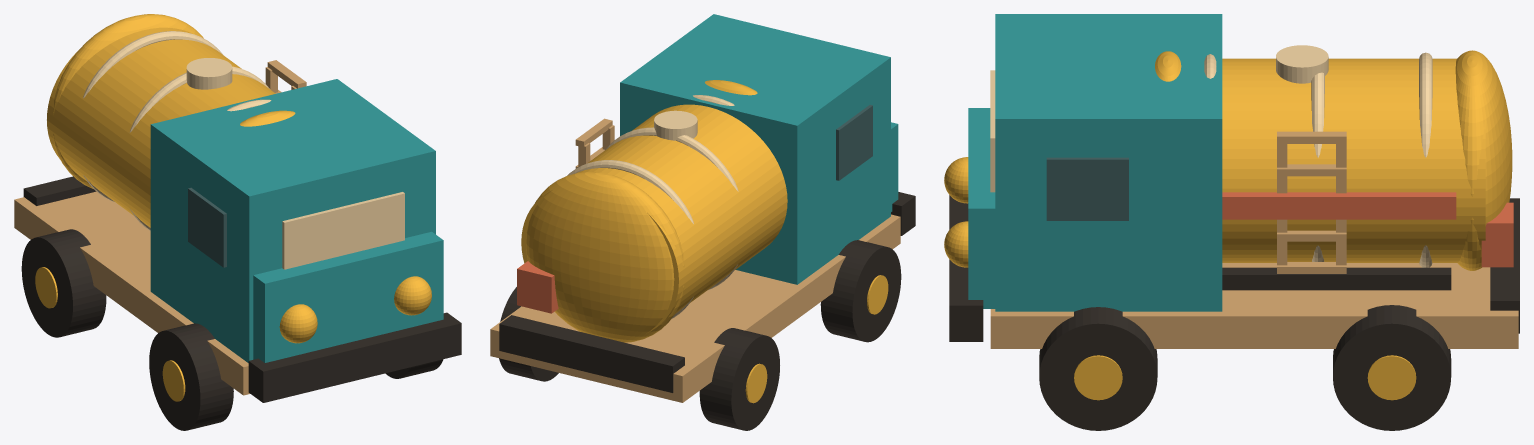
Rendered from truck-tanker.glb.
The picture shows the model from 3 angles, left to right: view 1: azimuth 30°, elevation 25°; view 2: azimuth 150°, elevation 25°; view 3: azimuth 270°, elevation 25°; orthographic projection. The views are drawn at different scales.
Parts seen in each view (by area): view 1: Tanker_Cab, Tanker_Tank_Body, Tanker_Hood, Tanker_Chassis, Tanker_Bumper, Tanker_Wheel_3, Tanker_Front_Window, Tanker_Wheel_1, Tanker_Tank_Rear_Dome, Tanker_Left_Window, Tanker_Band_3, Tanker_Fill_Hatch (+9 smaller); view 2: Tanker_Cab, Tanker_Tank_Body, Tanker_Tank_Rear_Dome, Tanker_Chassis, Tanker_Rear_Bumper, Tanker_Wheel_3, Tanker_Wheel_1, Tanker_Left_Window, Tanker_Rear_Valve_Box, Tanker_Band_3, Tanker_Fill_Hatch, Tanker_Band_2 (+7 smaller); view 3: Tanker_Cab, Tanker_Tank_Body, Tanker_Chassis, Tanker_Wheel_4, Tanker_Wheel_2, Tanker_Tank_Rear_Dome, Tanker_Side_Stripe, Tanker_Right_Window, Tanker_Hood, Tanker_Side_Pipe, Tanker_Bumper, Tanker_Rear_Bumper (+16 smaller).
Part boxes in pixels (bbox=[...]): Tanker_Cab: bbox=[150, 79, 435, 362]; Tanker_Tank_Body: bbox=[47, 27, 275, 227]; Tanker_Hood: bbox=[253, 231, 443, 362]; Tanker_Chassis: bbox=[14, 191, 249, 395]; Tanker_Bumper: bbox=[248, 312, 461, 402]; Tanker_Wheel_3: bbox=[21, 229, 106, 337]; Tanker_Front_Window: bbox=[282, 192, 404, 269]; Tanker_Wheel_1: bbox=[149, 323, 233, 430]; Tanker_Tank_Rear_Dome: bbox=[53, 14, 203, 188]; Tanker_Left_Window: bbox=[188, 187, 226, 267]; Tanker_Band_3: bbox=[83, 31, 222, 202]; Tanker_Fill_Hatch: bbox=[186, 58, 232, 89]; Tanker_Cab: bbox=[620, 14, 890, 284]; Tanker_Tank_Body: bbox=[521, 104, 787, 333]; Tanker_Tank_Rear_Dome: bbox=[526, 171, 684, 342]; Tanker_Chassis: bbox=[490, 214, 900, 402]; Tanker_Rear_Bumper: bbox=[499, 315, 684, 392]; Tanker_Wheel_3: bbox=[699, 328, 779, 430]; Tanker_Wheel_1: bbox=[820, 240, 901, 342]; Tanker_Left_Window: bbox=[836, 105, 872, 180]; Tanker_Rear_Valve_Box: bbox=[517, 261, 558, 313]; Tanker_Band_3: bbox=[567, 160, 693, 318]; Tanker_Fill_Hatch: bbox=[654, 110, 697, 140]; Tanker_Band_2: bbox=[605, 127, 738, 289]; Tanker_Cab: bbox=[995, 14, 1222, 311]; Tanker_Tank_Body: bbox=[1222, 58, 1485, 262]; Tanker_Chassis: bbox=[990, 263, 1518, 348]; Tanker_Wheel_4: bbox=[1333, 305, 1451, 430]; Tanker_Wheel_2: bbox=[1039, 307, 1157, 430]; Tanker_Tank_Rear_Dome: bbox=[1455, 50, 1512, 270]; Tanker_Side_Stripe: bbox=[1222, 192, 1456, 219]; Tanker_Right_Window: bbox=[1046, 157, 1128, 220]; Tanker_Hood: bbox=[968, 108, 995, 308]; Tanker_Side_Pipe: bbox=[1222, 267, 1451, 290]; Tanker_Bumper: bbox=[949, 195, 983, 341]; Tanker_Rear_Bumper: bbox=[1490, 198, 1519, 333].
Bounding box in the file's own units: 3.14 × 3.19 × 5.45.
